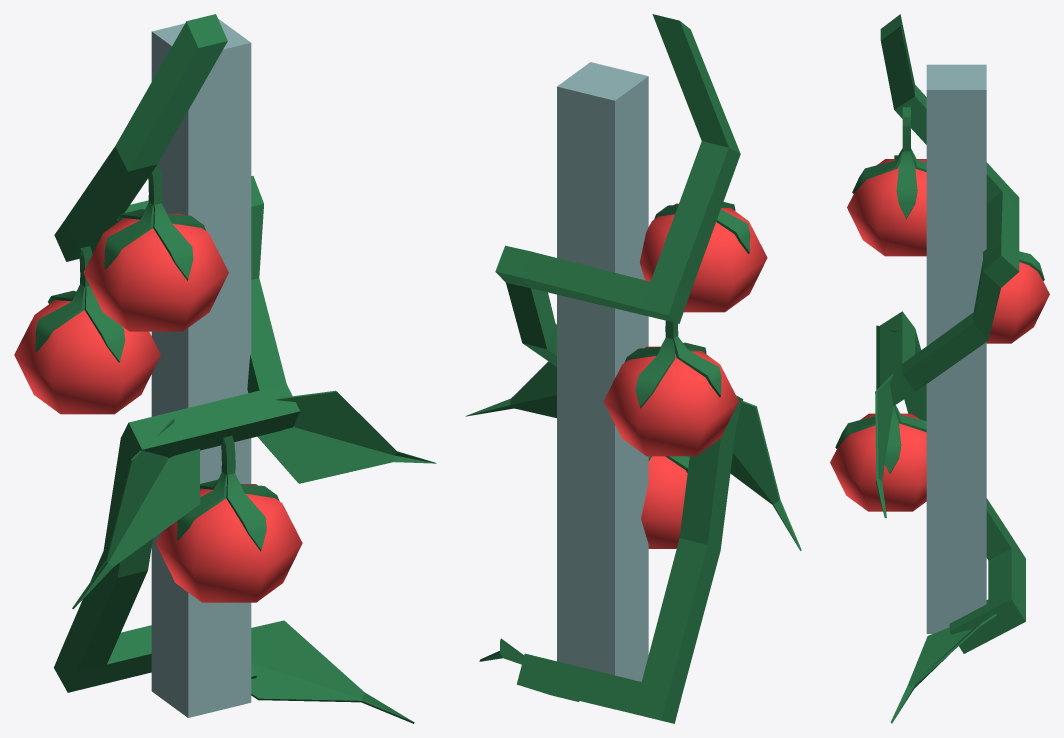
The model's file is tomato plant.FBX.
3 renders of one model, left to right at view 1: azimuth 30°, elevation 25°; view 2: azimuth 150°, elevation 25°; view 3: azimuth 270°, elevation 25°, orthographic. The views are drawn at different scales.
Parts seen in each view (by area): view 1: tomato plant; view 2: tomato plant; view 3: tomato plant.
Part boxes in pixels (bbox=[...]): tomato plant: bbox=[14, 14, 436, 723]; tomato plant: bbox=[465, 14, 801, 723]; tomato plant: bbox=[830, 14, 1049, 723].
Size of the model in its own units: 0.6597 by 1.31 by 0.4196.
Materials: 1 (1 with a texture image).
